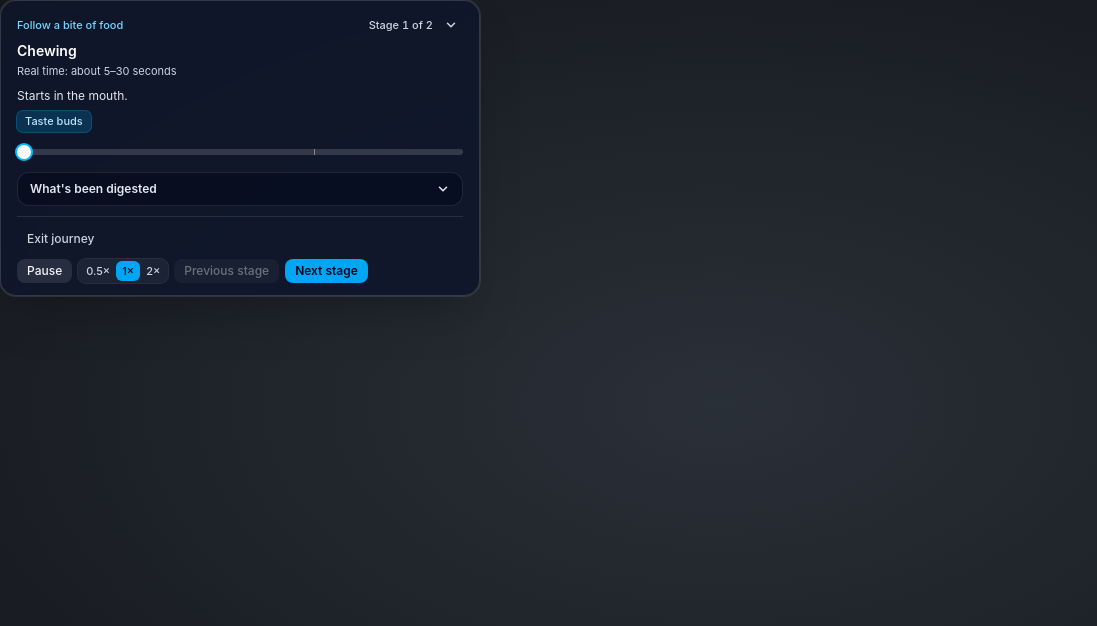
Scenario: JourneyBar › starts nutrients collapsed and toggles between minimized and expanded panel
Click the button named "Minimize panel": (451, 25) [439,13,463,37]
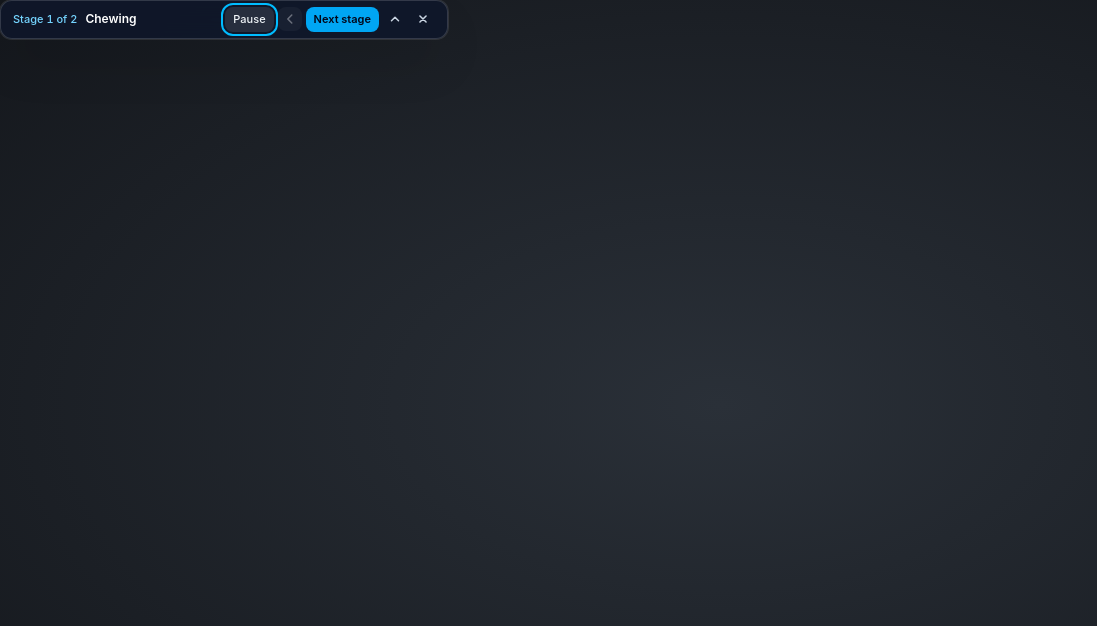
expect the heading "Chewing" is shown: met, box [85,11,137,27]
Click the button named "Expand panel": (395, 19) [383,7,407,31]
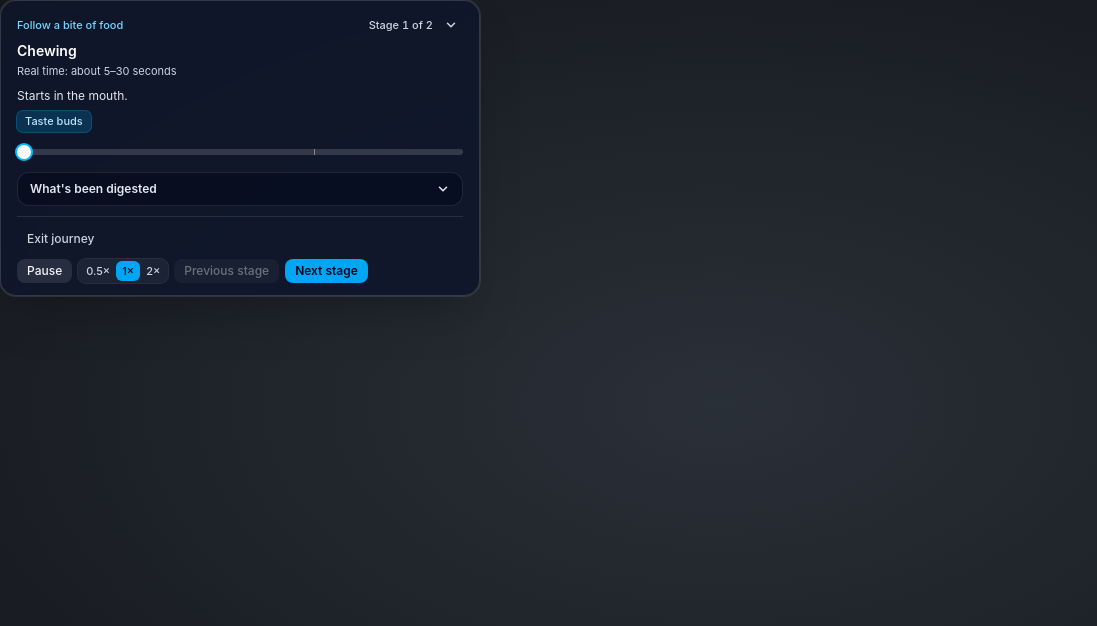
expect the slider named "Journey progress" is shown: met, box [17,144,31,158]
